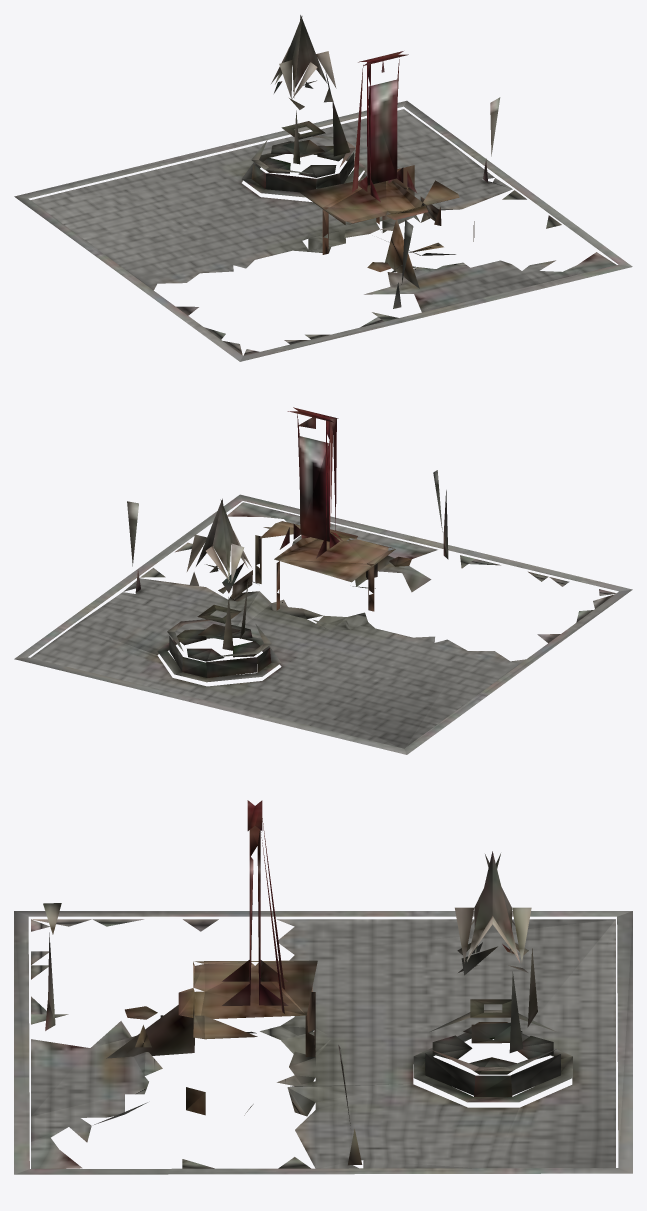
Rendered from square.glb.
3 renders of one model, top to bottom at view 1: azimuth 30°, elevation 25°; view 2: azimuth 150°, elevation 25°; view 3: azimuth 270°, elevation 25°, orthographic. The views are drawn at different scales.
Parts seen in each view (by area): view 1: tripo_node_f58a82ca-0949-4ae0-bfe0-8f483; view 2: tripo_node_f58a82ca-0949-4ae0-bfe0-8f483; view 3: tripo_node_f58a82ca-0949-4ae0-bfe0-8f483.
Boxes of the visible parts, x1,y1,x2,y2 form: tripo_node_f58a82ca-0949-4ae0-bfe0-8f483: (14, 15, 632, 361); tripo_node_f58a82ca-0949-4ae0-bfe0-8f483: (14, 407, 632, 754); tripo_node_f58a82ca-0949-4ae0-bfe0-8f483: (14, 800, 632, 1174).
Size of the model in its own units: 17.82 by 8.68 by 17.75.
Materials: 1 (1 with a texture image).
